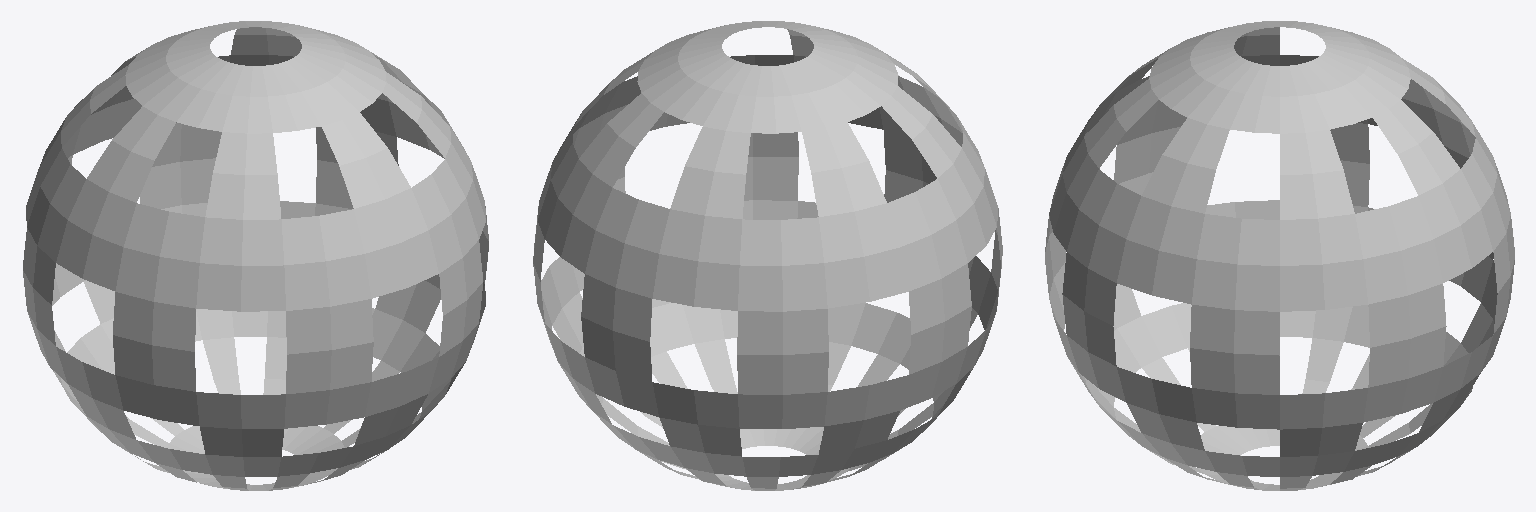
The model's file is sphere_with_missing_faces.obj.
3 views of the same model, side by side, from view 1: azimuth 30°, elevation 25°; view 2: azimuth 150°, elevation 25°; view 3: azimuth 270°, elevation 25° (orthographic).
Parts seen in each view (by area): view 1: Sphere; view 2: Sphere; view 3: Sphere.
Boxes of the visible parts, <box> form: Sphere: <box>23,21,488,490</box>; Sphere: <box>533,21,1002,490</box>; Sphere: <box>1045,21,1514,490</box>.
Bounding box in the file's own units: 2 × 1.96 × 2.